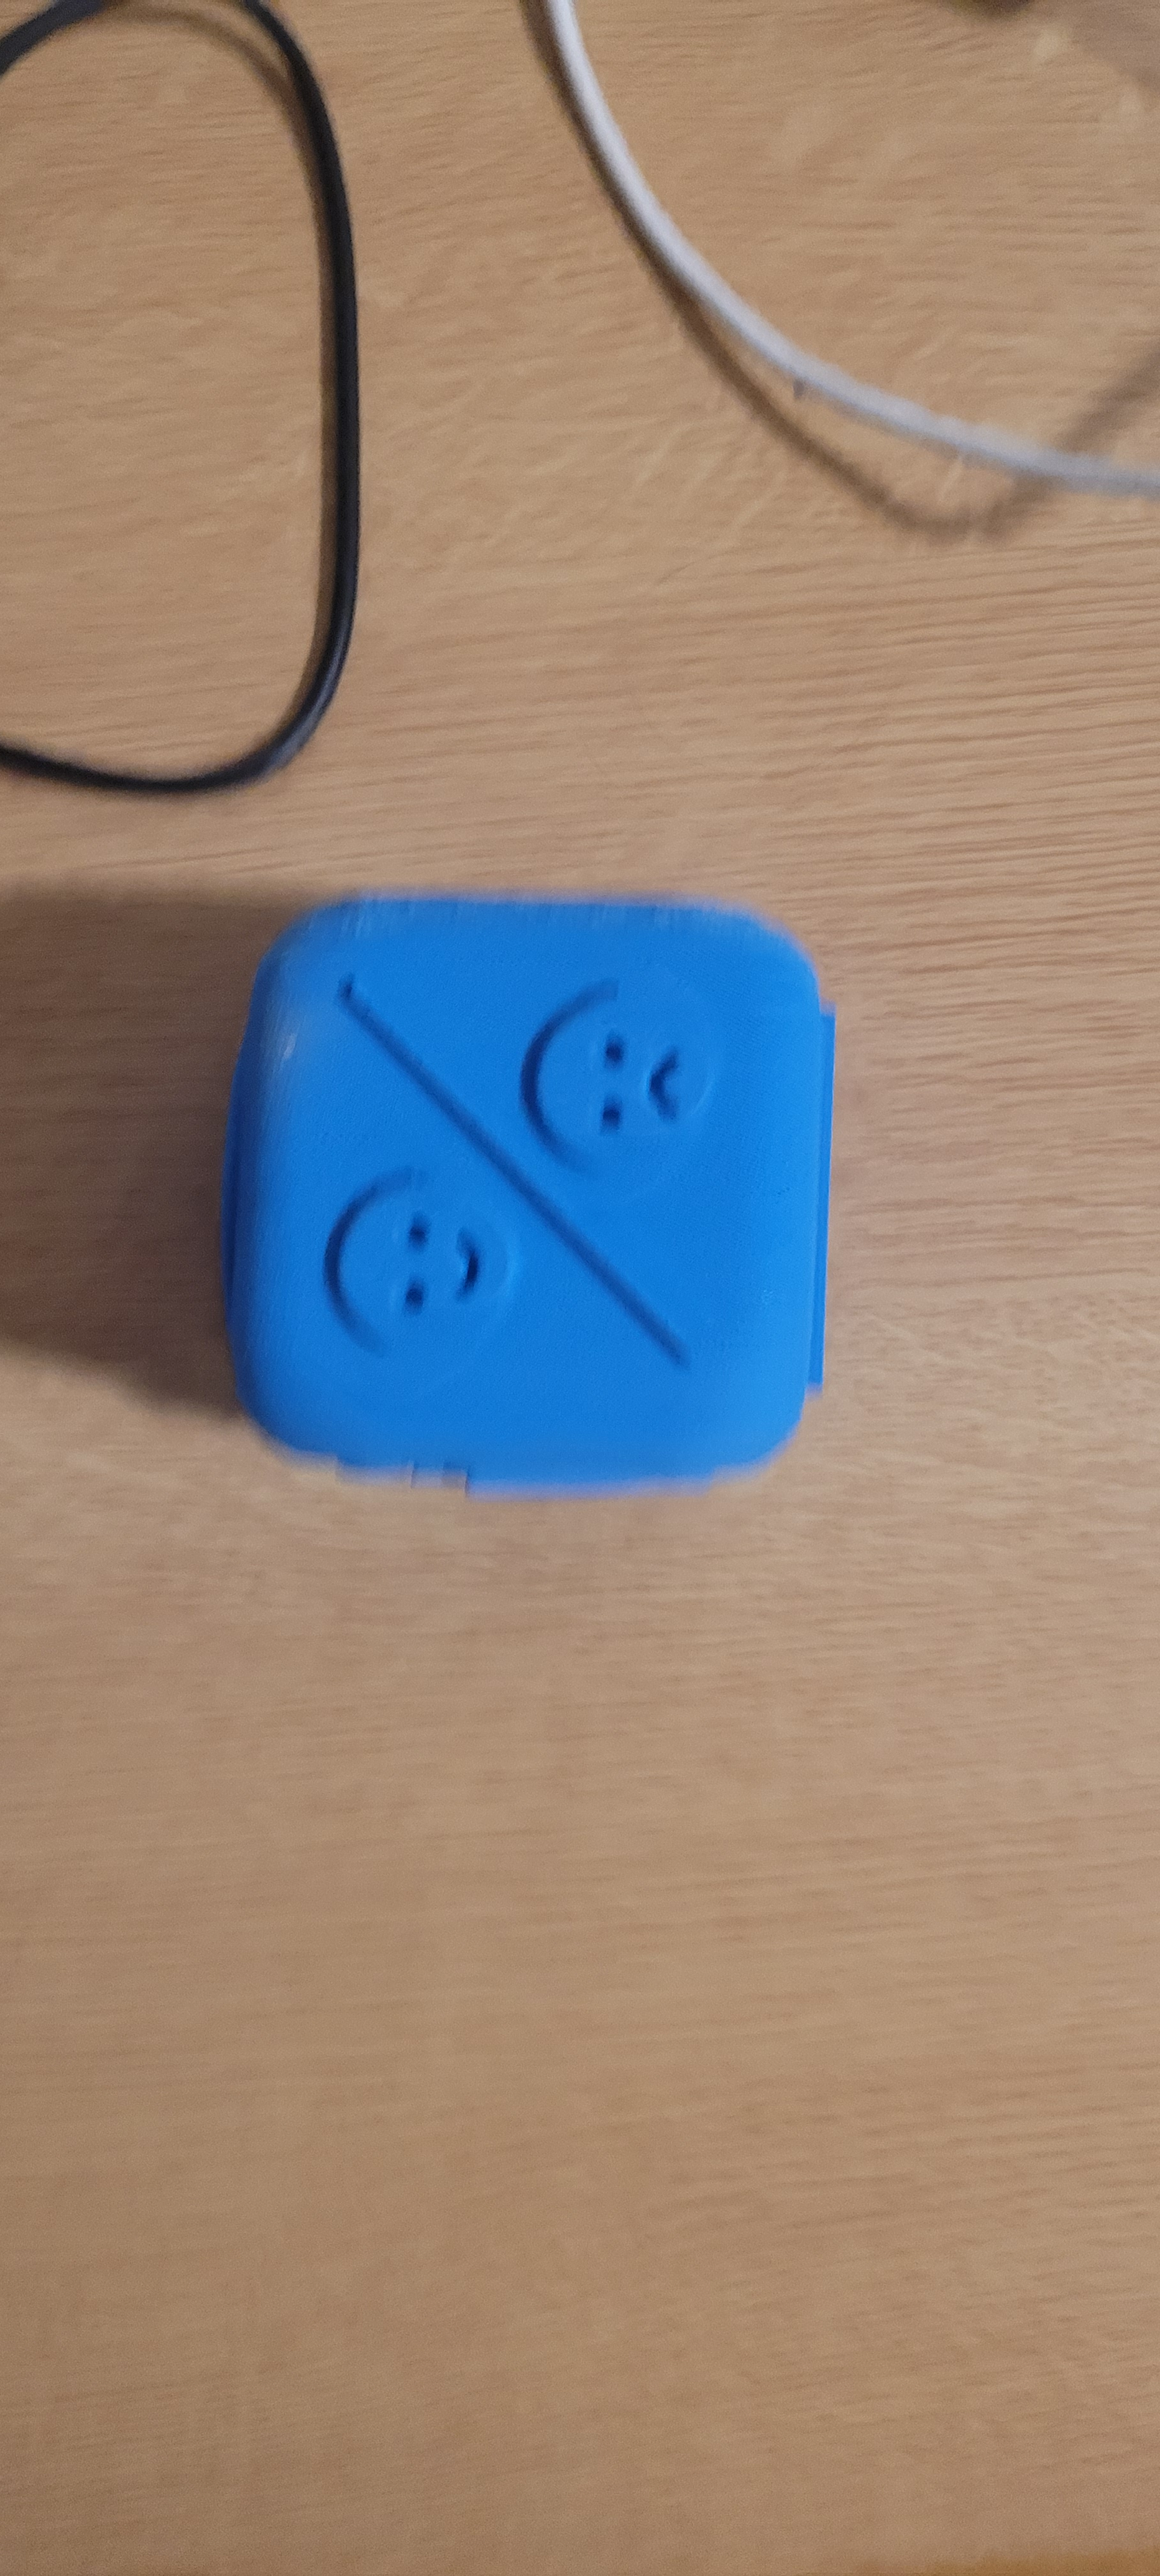Like/Dislike: (248, 871, 871, 1523)
